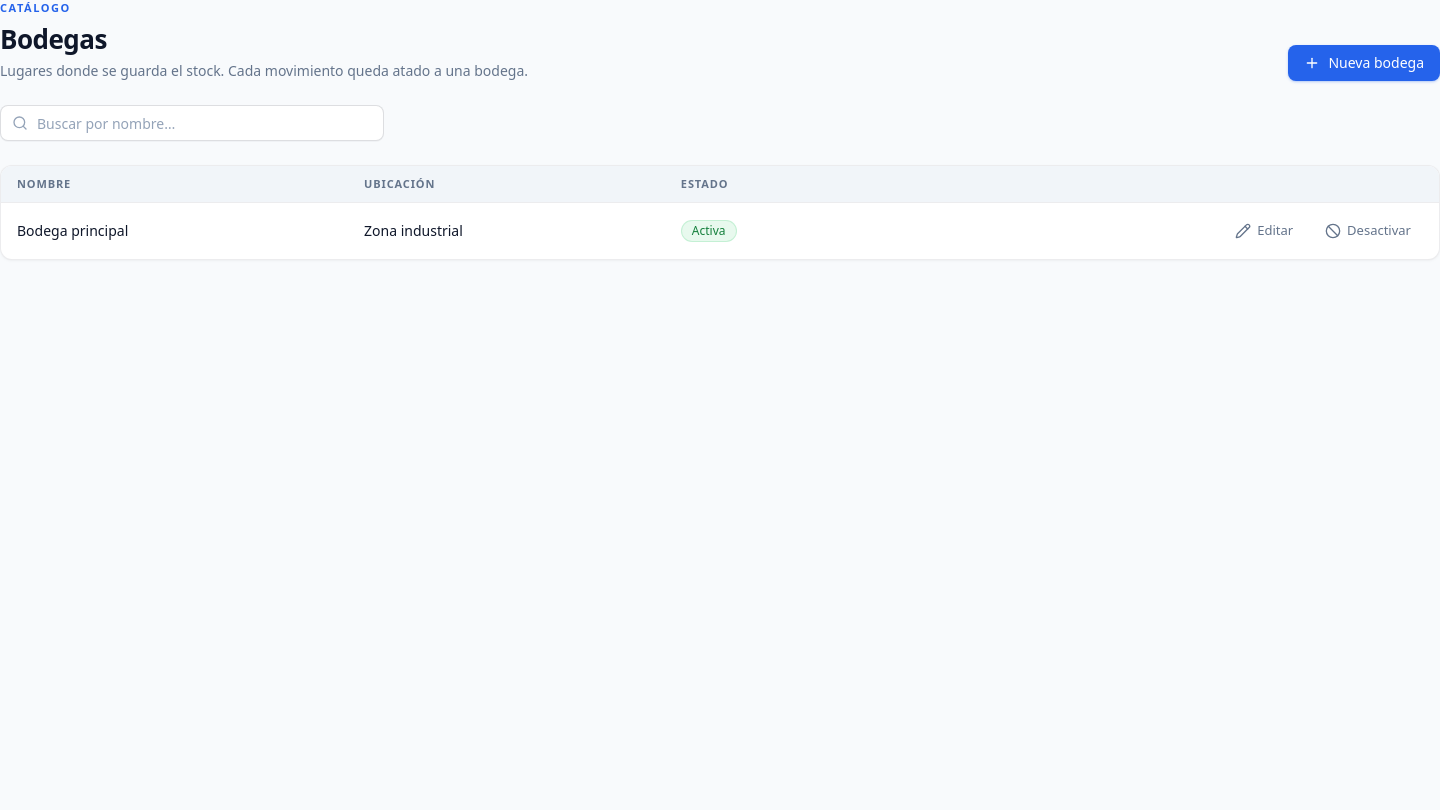
Test: WarehousesPage › opens the edit modal pre-filled with the selected warehouse
Click the button "Editar" at (1264,231), box top-left (1223, 215), bottom-right (1305, 247)
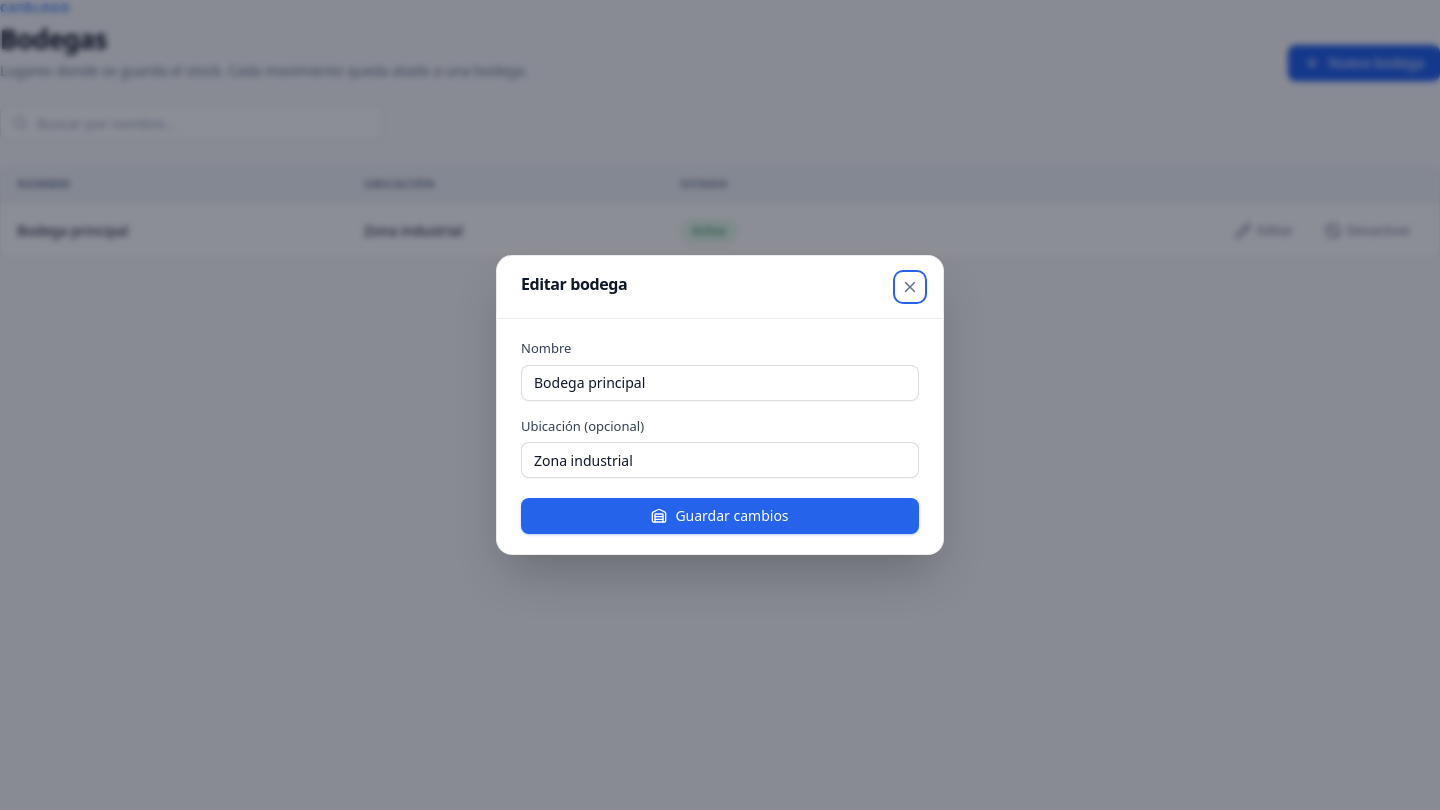
Expected: the dialog "Editar bodega" is shown, top-left (496, 255), bottom-right (944, 555)
Expected: the field labelled "Nombre" holds "Bodega principal", top-left (521, 364), bottom-right (919, 400)
